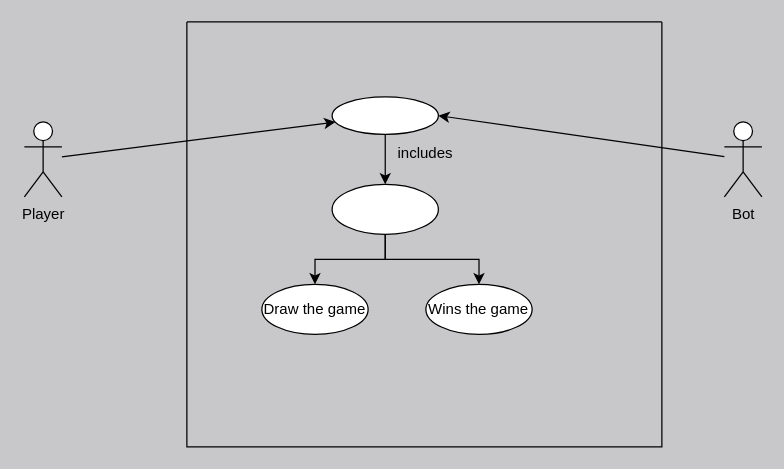
Image size: 784x469. Some labels were removed from this diagram. The centre of each missing label's shape, as x and y in pixels:
"Moves" goes at [384,208].
"Start the game" goes at [384,115].
